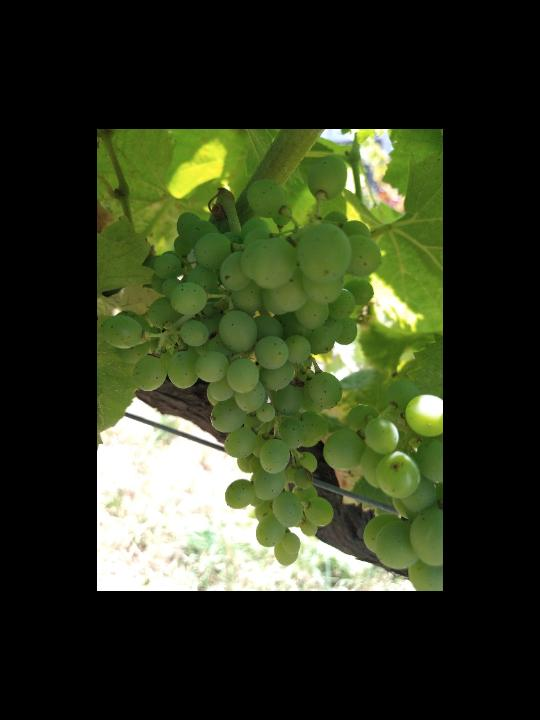grape: (101, 155, 382, 568)
